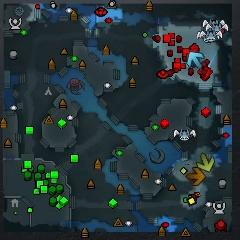x2: (197, 153, 215, 172)
x3: (188, 52, 204, 68)
x5: (187, 167, 205, 186)
